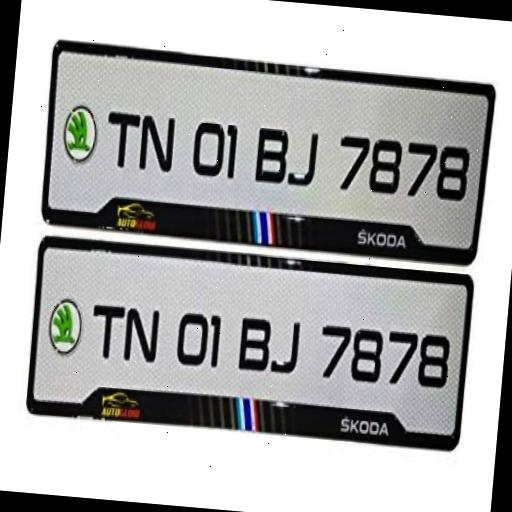number plate: (43, 45, 489, 259), (26, 243, 472, 448)
